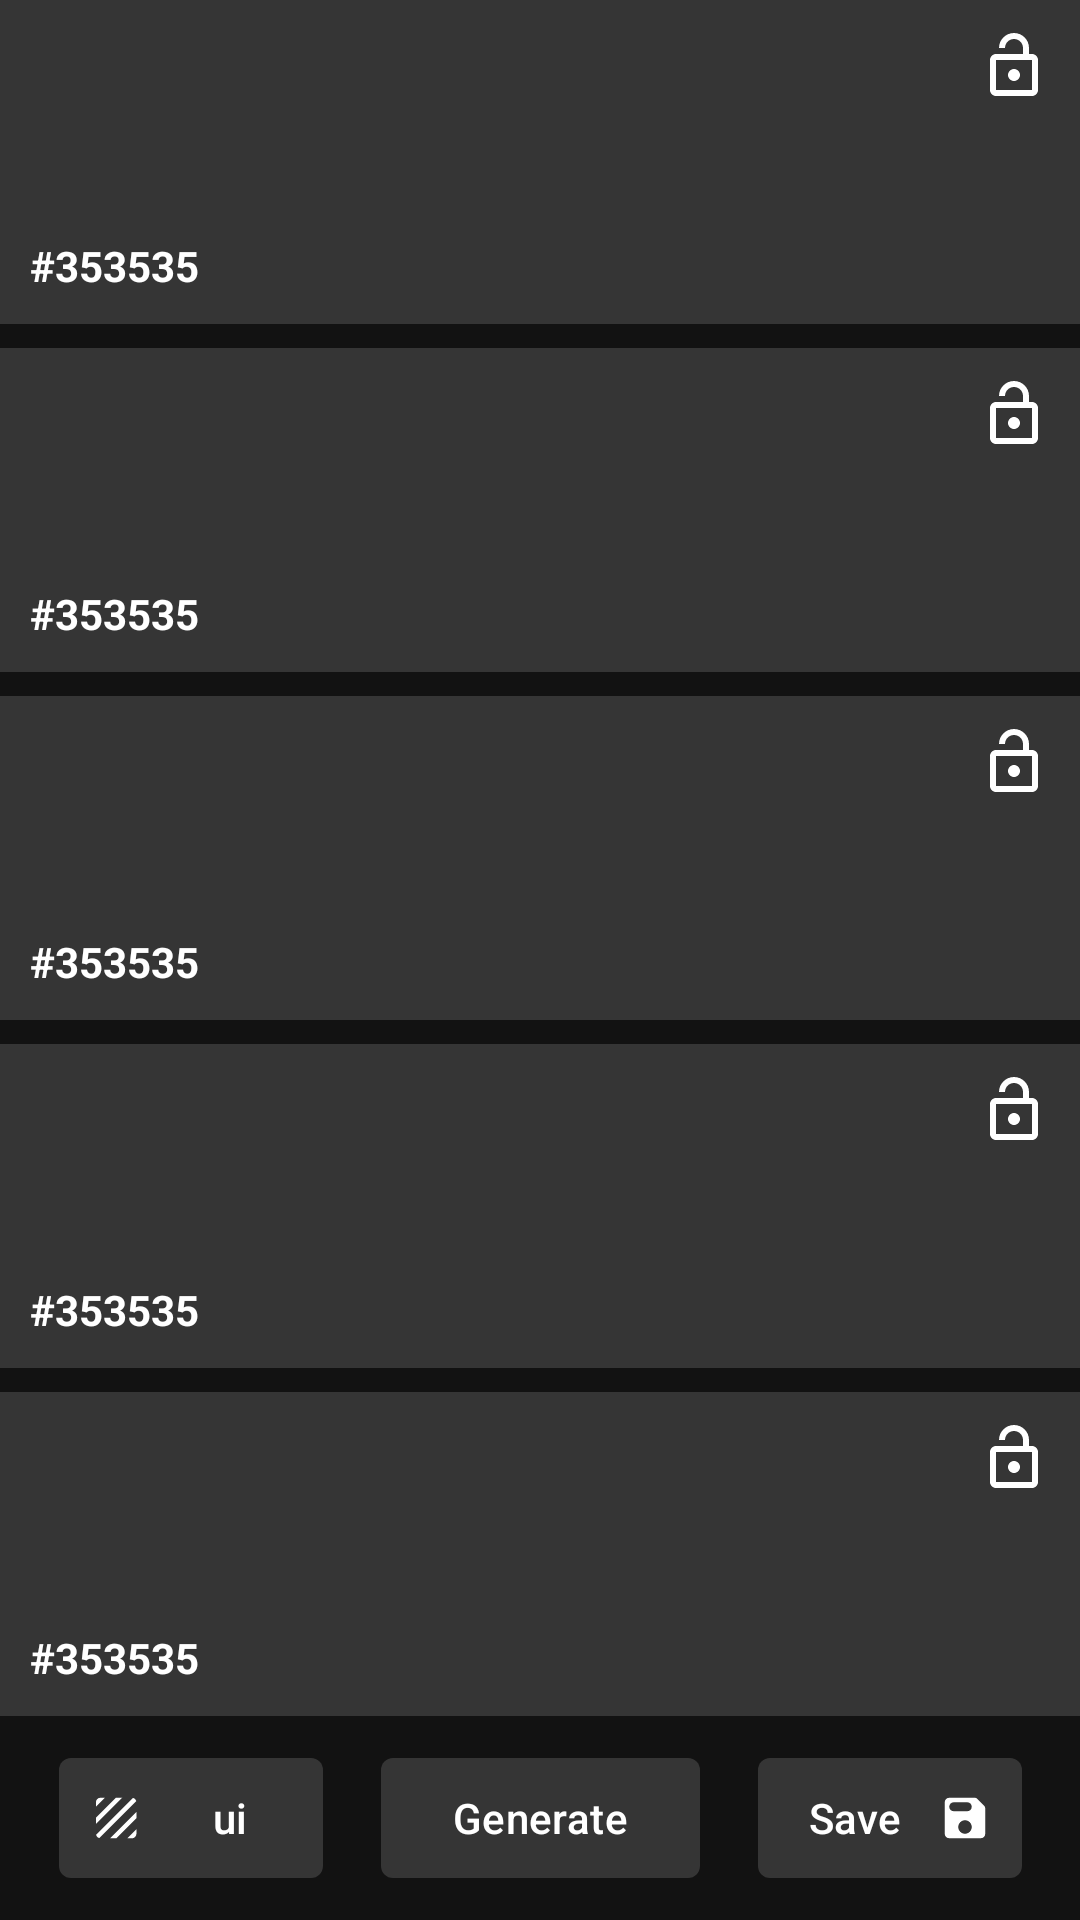

Screen size 1080px x 1920px. Icon name, then its box in pixels as (x1, y1, x2, y2):
lock unlocked: (990, 33, 1038, 96), (990, 381, 1038, 444), (990, 729, 1038, 792), (990, 1077, 1038, 1140), (990, 1425, 1038, 1488)
